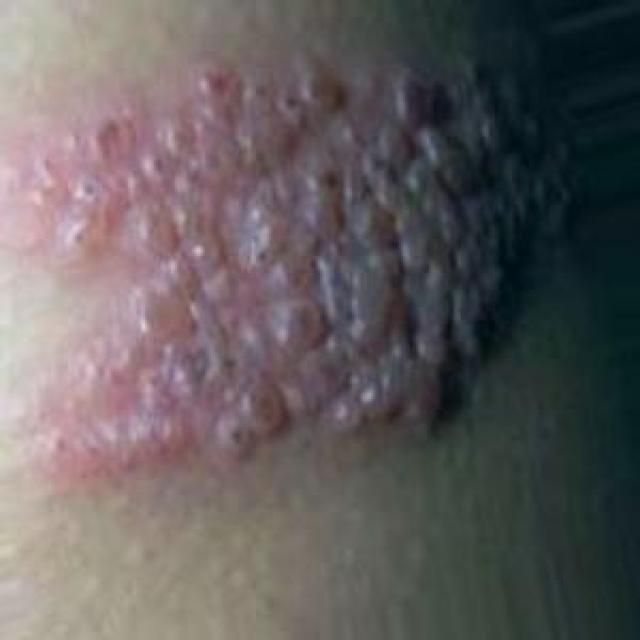Shingles: (0, 61, 567, 462)
